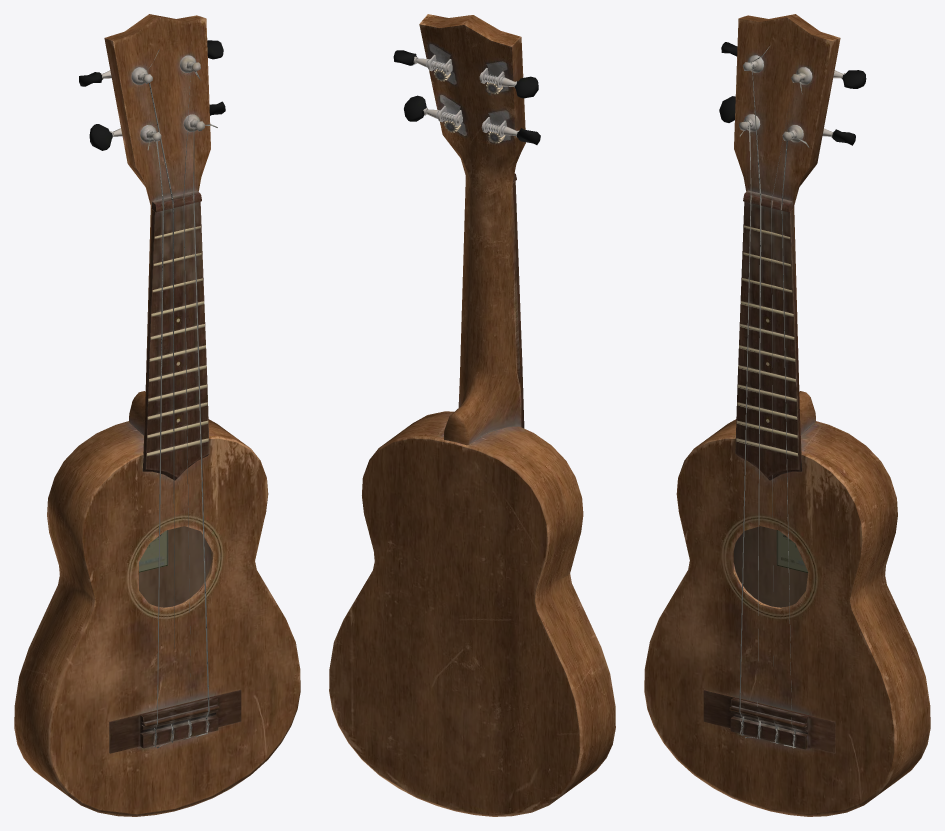
Rendered from Ukulele_01.glb.
The picture shows the model from 3 angles, left to right: view 1: azimuth 30°, elevation 25°; view 2: azimuth 150°, elevation 25°; view 3: azimuth 330°, elevation 25°; orthographic projection.
Parts seen in each view (by area): view 1: Ukulele_01; view 2: Ukulele_01; view 3: Ukulele_01.
Part boxes in pixels (x1,y1,x2,y2): Ukulele_01: (14, 14, 300, 816); Ukulele_01: (329, 14, 615, 816); Ukulele_01: (644, 14, 930, 816).
Size of the model in its own units: 0.1779 by 0.527 by 0.0507.
1 material, 1 textured.
